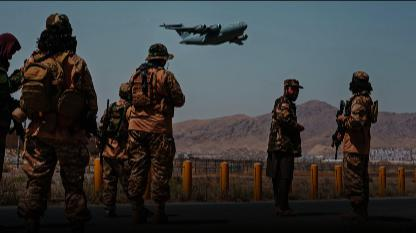C2: (159, 20, 249, 44)
